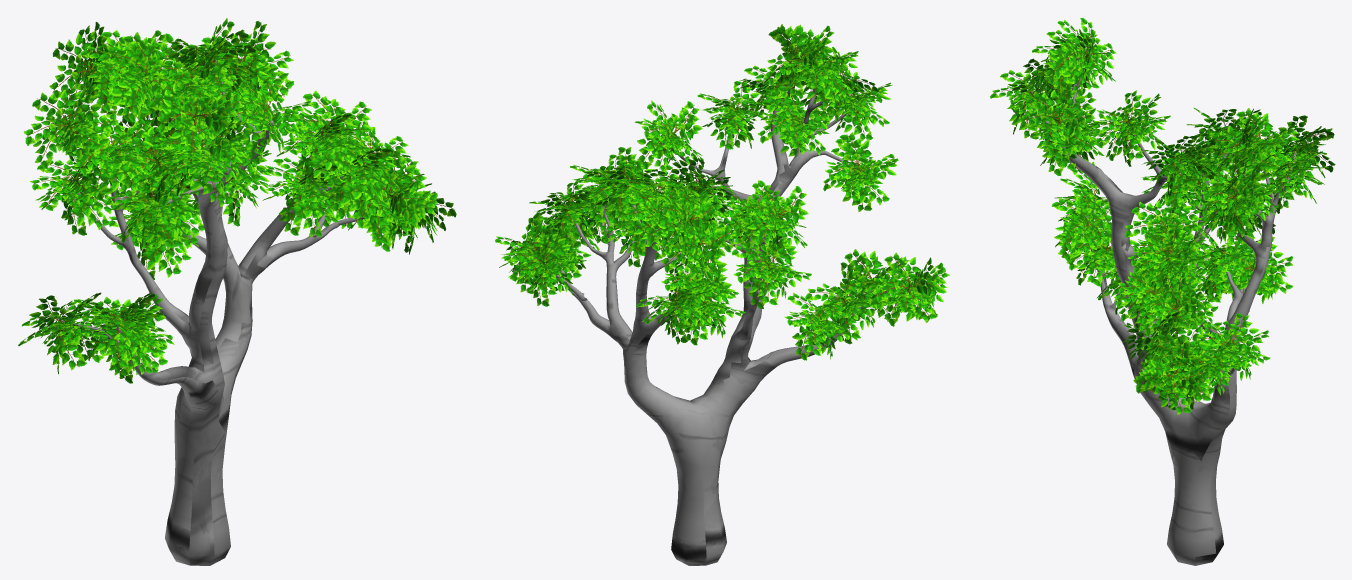
The model's file is BirchTree2.fbx.
The picture shows the model from 3 angles, left to right: view 1: azimuth 30°, elevation 25°; view 2: azimuth 150°, elevation 25°; view 3: azimuth 270°, elevation 25°; orthographic projection. The views are drawn at different scales.
Visible parts, largest first — view 1: Plane, Cube.001; view 2: Plane, Cube.001; view 3: Plane, Cube.001.
Part boxes in pixels (x1=…): Plane: x1=18, y1=18, x2=456, y2=383; Cube.001: x1=62, y1=60, x2=364, y2=565; Plane: x1=495, y1=24, x2=949, y2=360; Cube.001: x1=555, y1=73, x2=910, y2=565; Plane: x1=990, y1=18, x2=1335, y2=414; Cube.001: x1=1038, y1=57, x2=1296, y2=565.
Size of the model in its own units: 6.45 by 4.83 by 7.9.
2 materials, 2 textured.
